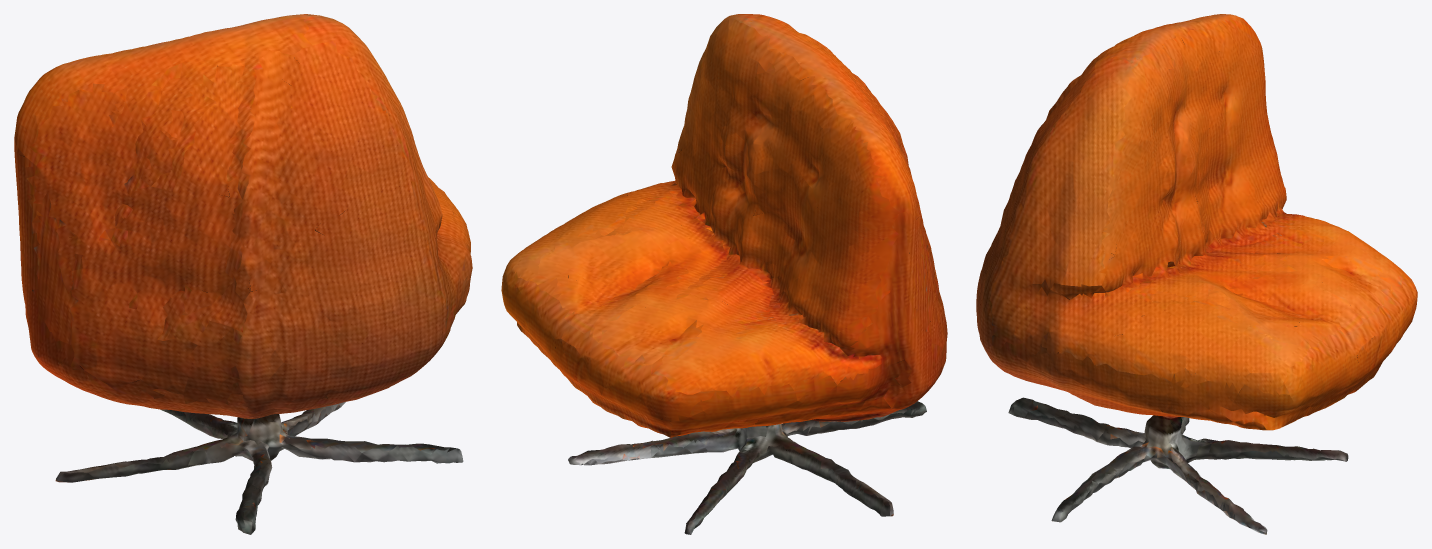
Rendered from chair.glb.
3 views of the same model, side by side, from view 1: azimuth 30°, elevation 25°; view 2: azimuth 150°, elevation 25°; view 3: azimuth 270°, elevation 25° (orthographic). The views are drawn at different scales.
Parts seen in each view (by area): view 1: world; view 2: world; view 3: world.
Boxes of the visible parts, box(x1,y1,x2,y2) form: world: box(14, 14, 472, 534); world: box(501, 14, 947, 534); world: box(976, 14, 1417, 534).
Bounding box in the file's own units: 0.8521 × 0.889 × 0.8394.
Materials: 1 (1 with a texture image).
